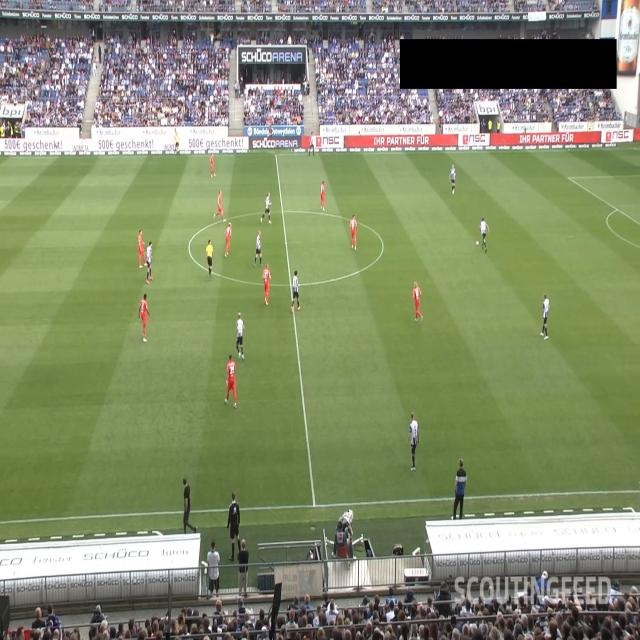ball: (476, 239, 480, 246)
